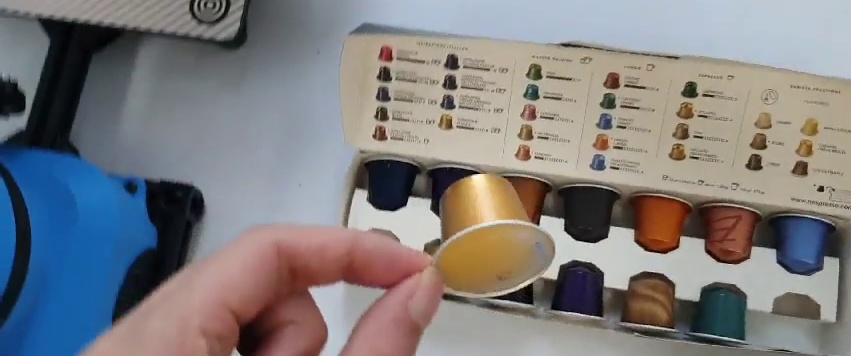capsule_8: (426, 169, 559, 301)
